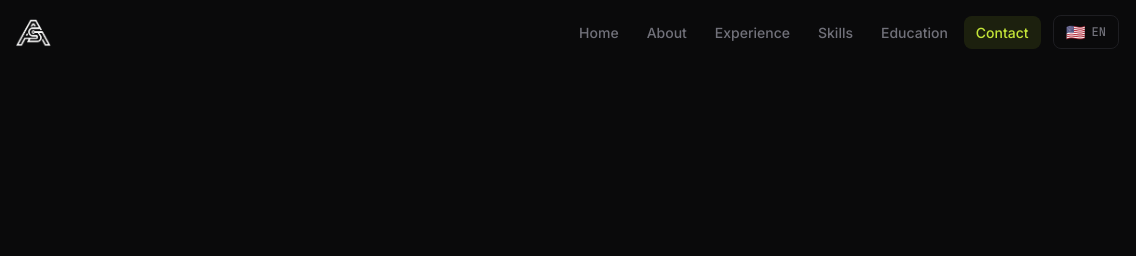
Scenario: opens desktop language dropdown
Step 1. Click the button "🇺🇸 EN" → [1086, 32], box [1053,15,1119,49]
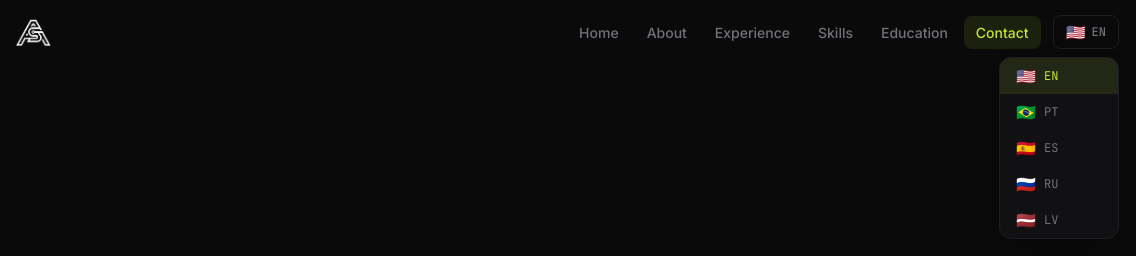
Check: the text "PT" is shown, box [1044,104,1058,120]
